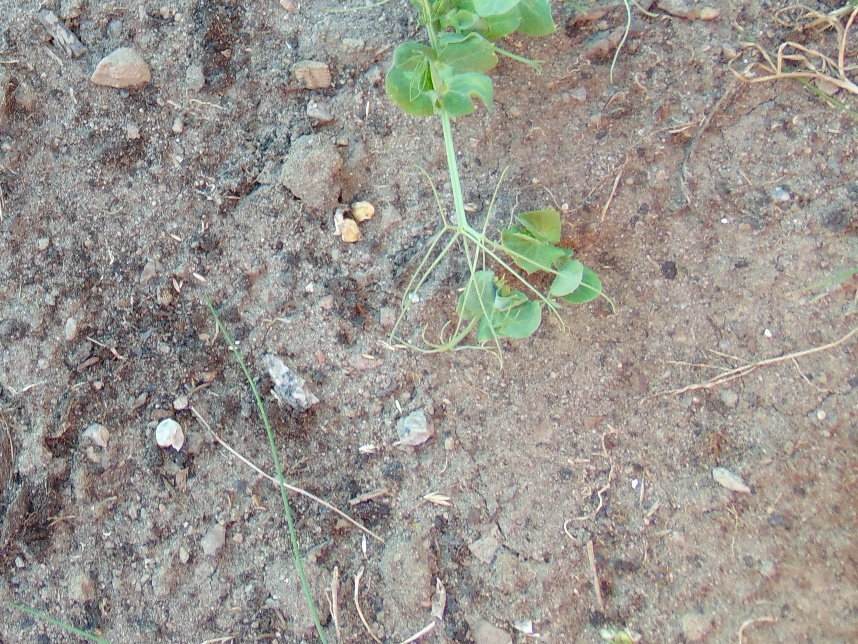crop: (386, 1, 558, 265), (399, 178, 607, 352)
